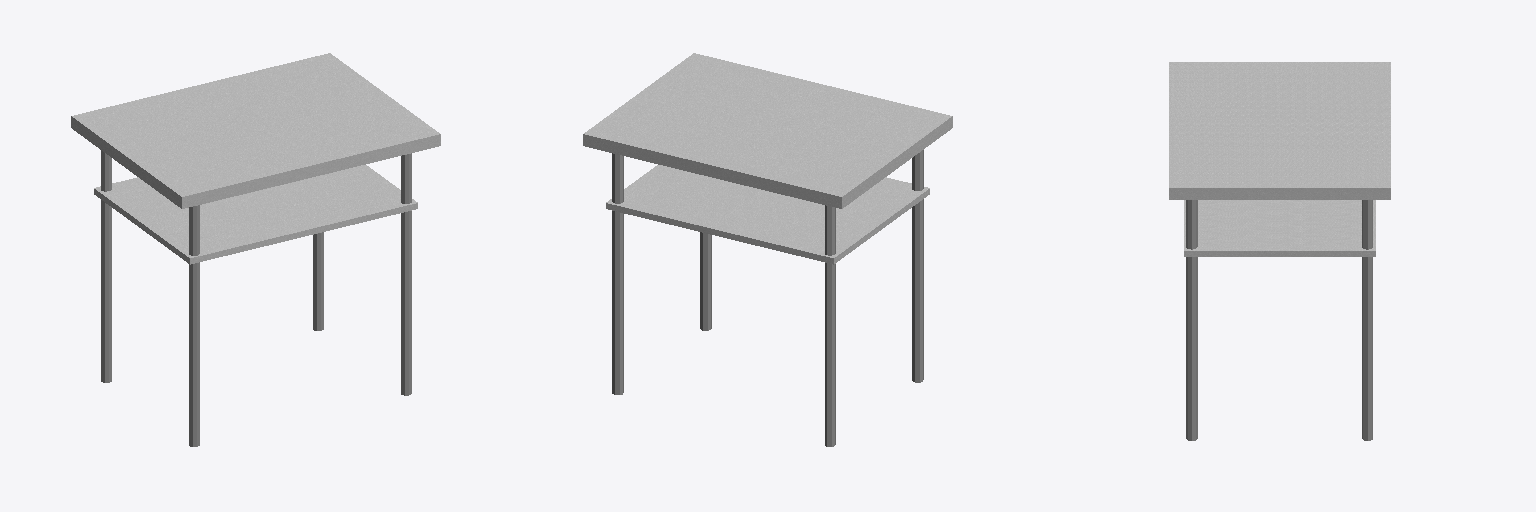
3 views of the same model, side by side, from view 1: azimuth 30°, elevation 25°; view 2: azimuth 150°, elevation 25°; view 3: azimuth 270°, elevation 25° (orthographic).
Visible parts, largest first — view 1: Cube_Cube.001, Cube.002_Cube.003; view 2: Cube_Cube.001, Cube.002_Cube.003; view 3: Cube_Cube.001, Cube.002_Cube.003.
Part boxes in pixels (x1,y1,x2,y2): Cube_Cube.001: (71,53,440,264); Cube.002_Cube.003: (101,150,411,446); Cube_Cube.001: (583,53,952,264); Cube.002_Cube.003: (612,150,923,446); Cube_Cube.001: (1169,62,1390,256); Cube.002_Cube.003: (1186,200,1372,440).
Size of the model in its own units: 2 by 1.93 by 1.48.
Materials: 2 (1 with a texture image).